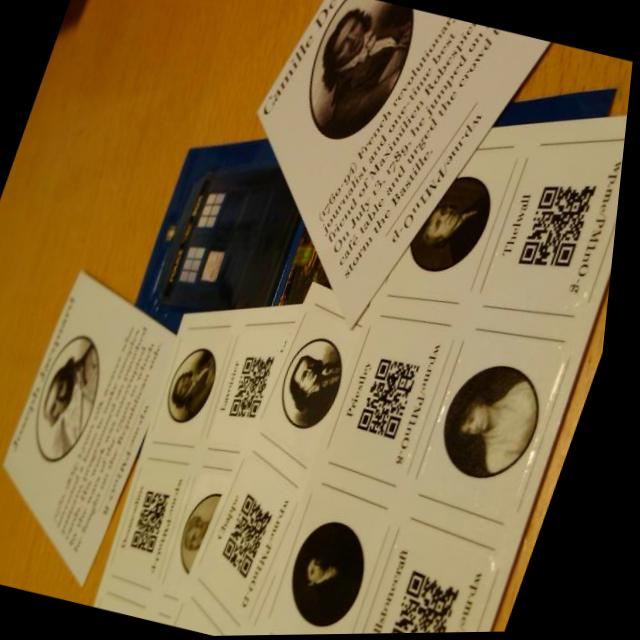qrcode: (523, 176, 603, 277), (365, 358, 429, 441), (229, 494, 290, 580), (399, 571, 477, 636), (235, 351, 286, 422), (140, 490, 185, 554)
